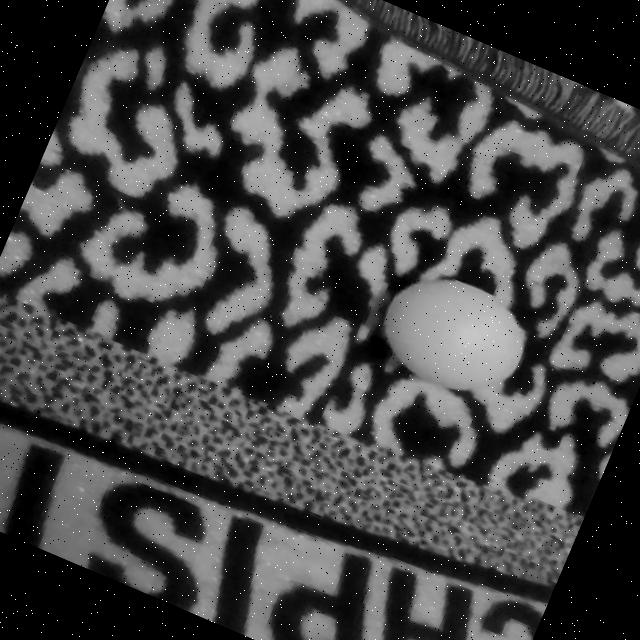ping-pong-ball: (368, 260, 538, 410)
